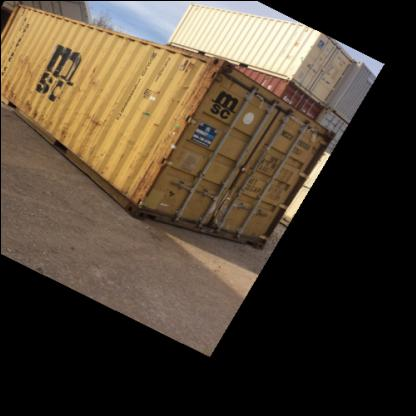Damage: (173, 52, 221, 108), (125, 142, 159, 202), (80, 106, 110, 136), (20, 94, 48, 124), (310, 125, 337, 152), (257, 144, 284, 170), (11, 48, 35, 76), (84, 48, 102, 82), (61, 122, 74, 141)
